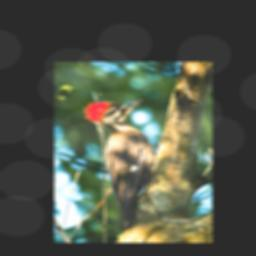Woodpecker: (84, 97, 163, 230)
